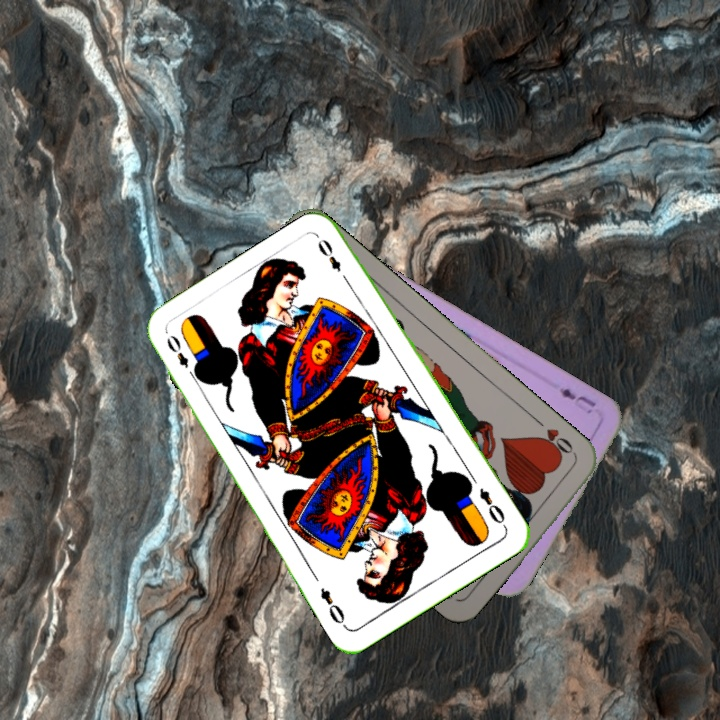EO: (162, 331, 201, 383), (475, 483, 509, 531)
EU: (555, 383, 599, 410)
HO: (532, 415, 580, 461)
